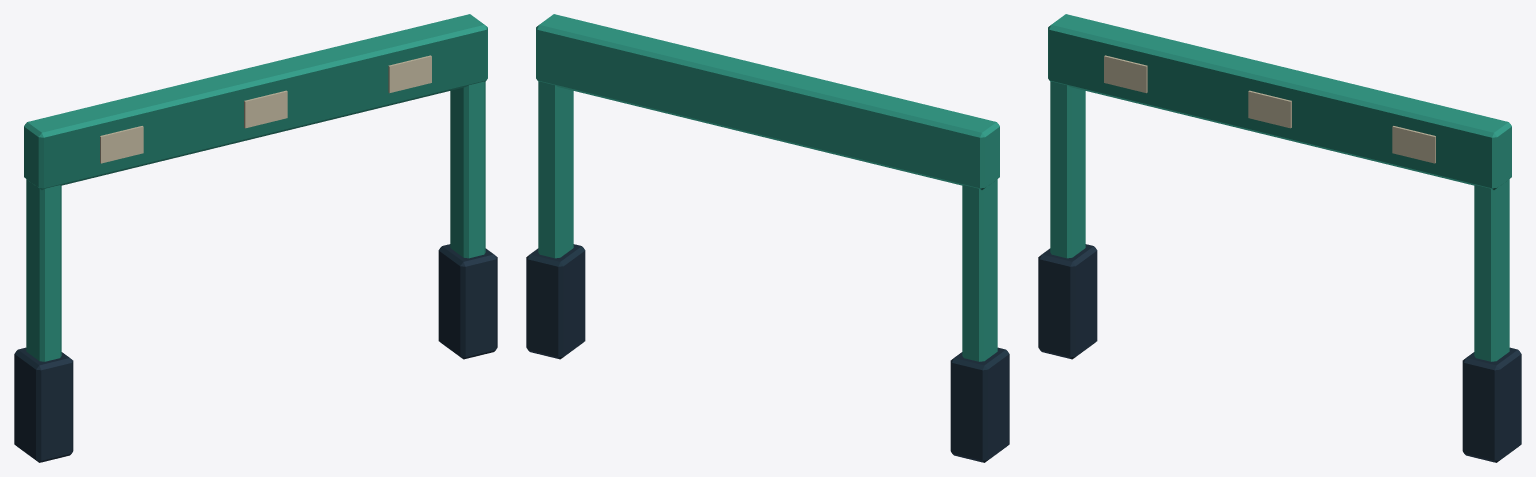
Rendered from start-gate.glb.
The picture shows the model from 3 angles, left to right: view 1: azimuth 30°, elevation 25°; view 2: azimuth 150°, elevation 25°; view 3: azimuth 330°, elevation 25°; orthographic projection.
Visible parts, largest first — view 1: gate_frame; view 2: gate_frame; view 3: gate_frame.
Boxes of the visible parts, x1=… form: gate_frame: x1=14, y1=14, x2=497, y2=462; gate_frame: x1=526, y1=14, x2=1009, y2=462; gate_frame: x1=1038, y1=14, x2=1521, y2=462.
Bounding box in the file's own units: 5.44 × 3.67 × 0.52.
